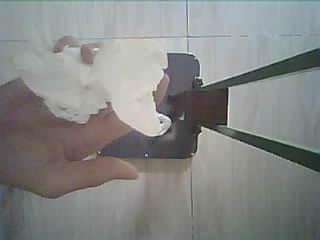paper: (16, 40, 170, 136)
